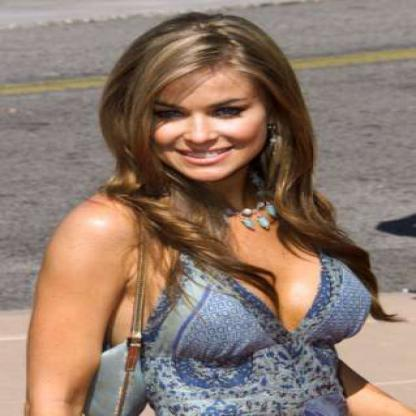face: (136, 36, 274, 184)
